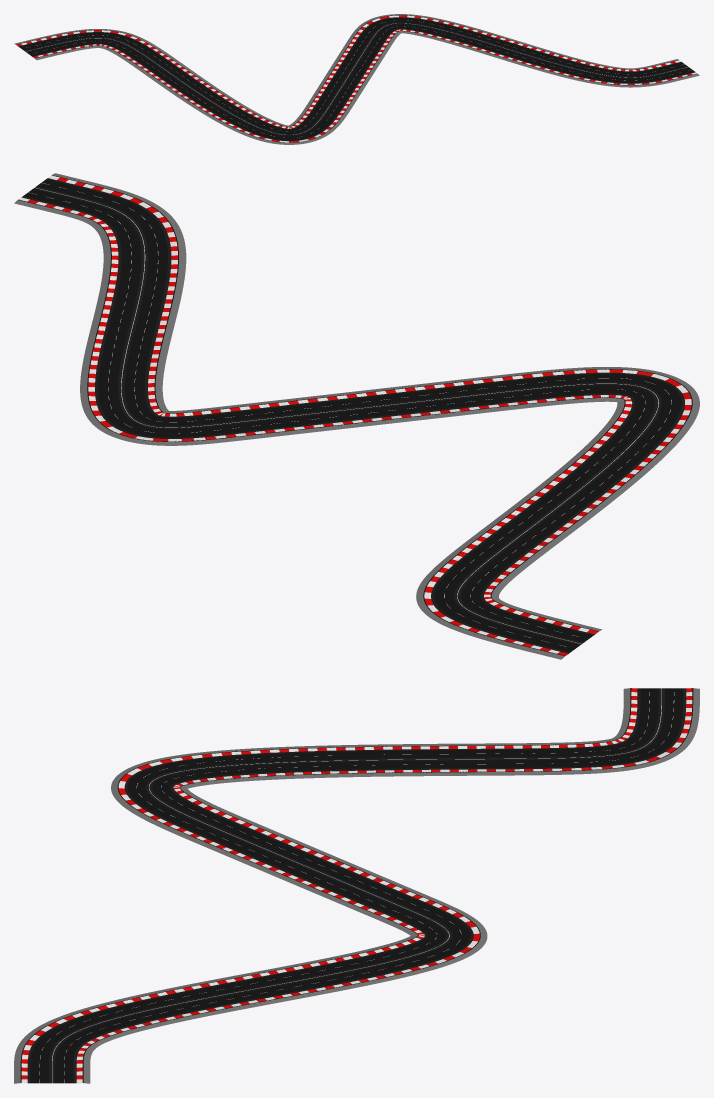
File: S0.2c2-Zee.glb
The picture shows the model from 3 angles, top to bottom: view 1: azimuth 30°, elevation 25°; view 2: azimuth 150°, elevation 25°; view 3: azimuth 270°, elevation 25°; orthographic projection. The views are drawn at different scales.
Visible parts, largest first — view 1: Grid; view 2: Grid; view 3: Grid.
Boxes of the visible parts, x1=… form: Grid: x1=14, y1=14, x2=699, y2=144; Grid: x1=14, y1=173, x2=699, y2=659; Grid: x1=14, y1=688, x2=699, y2=1083.
Bounding box in the file's own units: 307 × 0.31 × 225.
